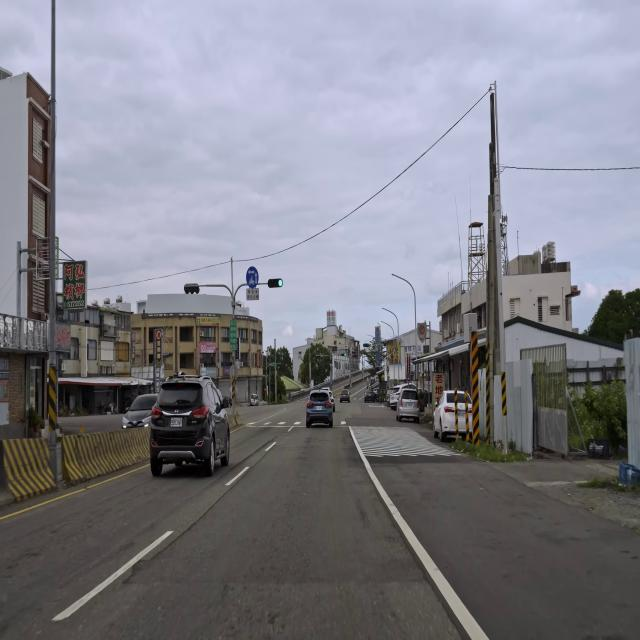green light: (267, 278, 283, 288)
